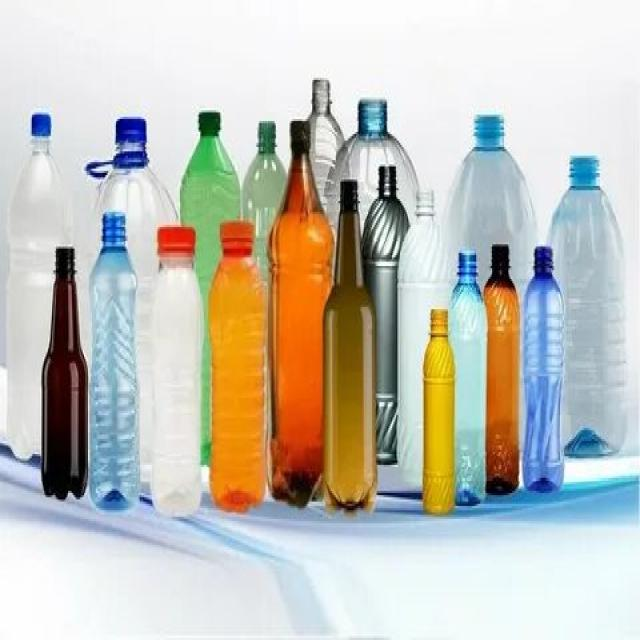blue: (548, 168, 626, 459), (90, 215, 138, 509), (451, 249, 486, 509)
brown: (271, 145, 326, 504), (42, 272, 88, 500), (487, 270, 521, 492)
